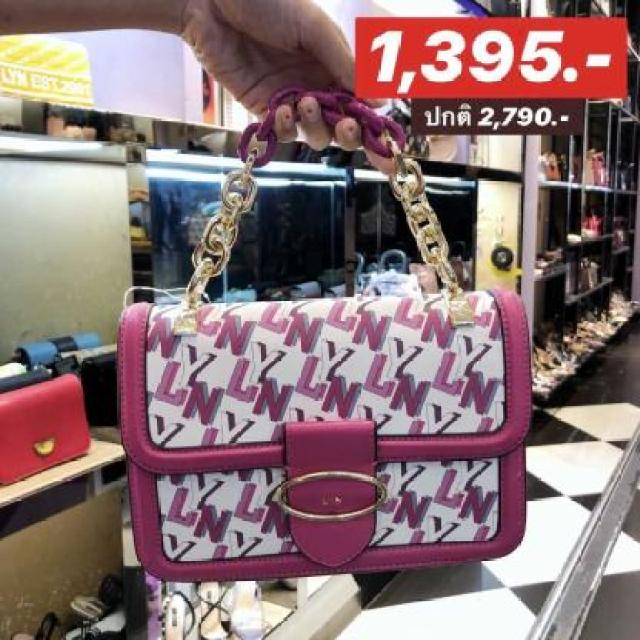Bag: (78, 67, 570, 602)
